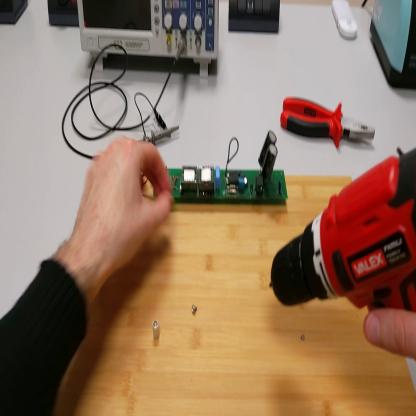electric screwdriver: (270, 147, 416, 312)
hand: (72, 135, 172, 280), (359, 305, 416, 360)
high voltage board: (140, 135, 288, 206)
oscilloscope: (78, 4, 220, 78)
oscilloscope probe tip: (144, 125, 181, 147)
pliers: (280, 97, 377, 149)
socket: (49, 2, 79, 28), (2, 2, 28, 25)
welder station: (371, 4, 416, 91)
working area: (62, 175, 416, 416)
